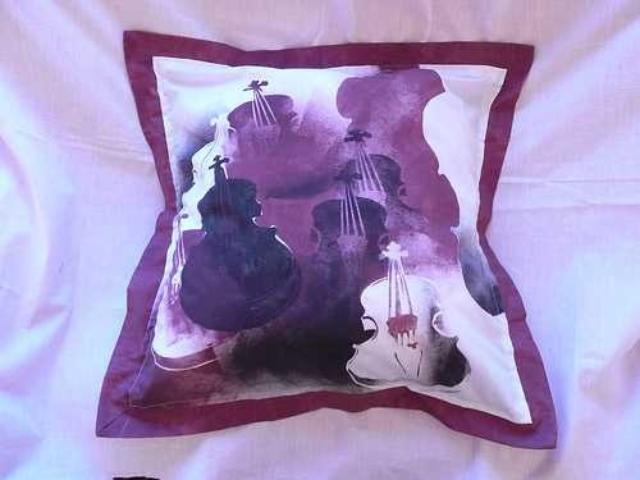pillow: (119, 27, 567, 455)
